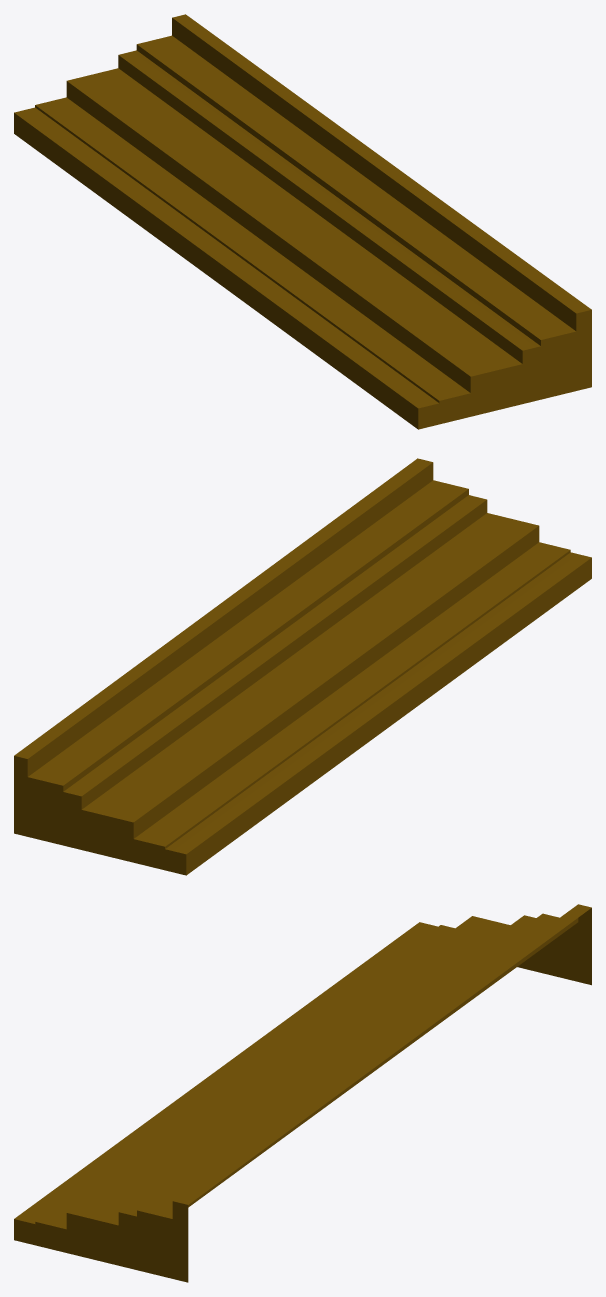
File: UndeBench_Low.fbx
The picture shows the model from 3 angles, top to bottom: view 1: azimuth 30°, elevation 25°; view 2: azimuth 150°, elevation 25°; view 3: azimuth 330°, elevation 25°; orthographic projection.
Parts seen in each view (by area): view 1: UnderBench_Low; view 2: UnderBench_Low; view 3: UnderBench_Low.
Part boxes in pixels (x1=…): UnderBench_Low: x1=14, y1=14, x2=591, y2=429; UnderBench_Low: x1=14, y1=458, x2=591, y2=875; UnderBench_Low: x1=14, y1=904, x2=591, y2=1282.
Size of the model in its own units: 336 by 143 by 1354.
